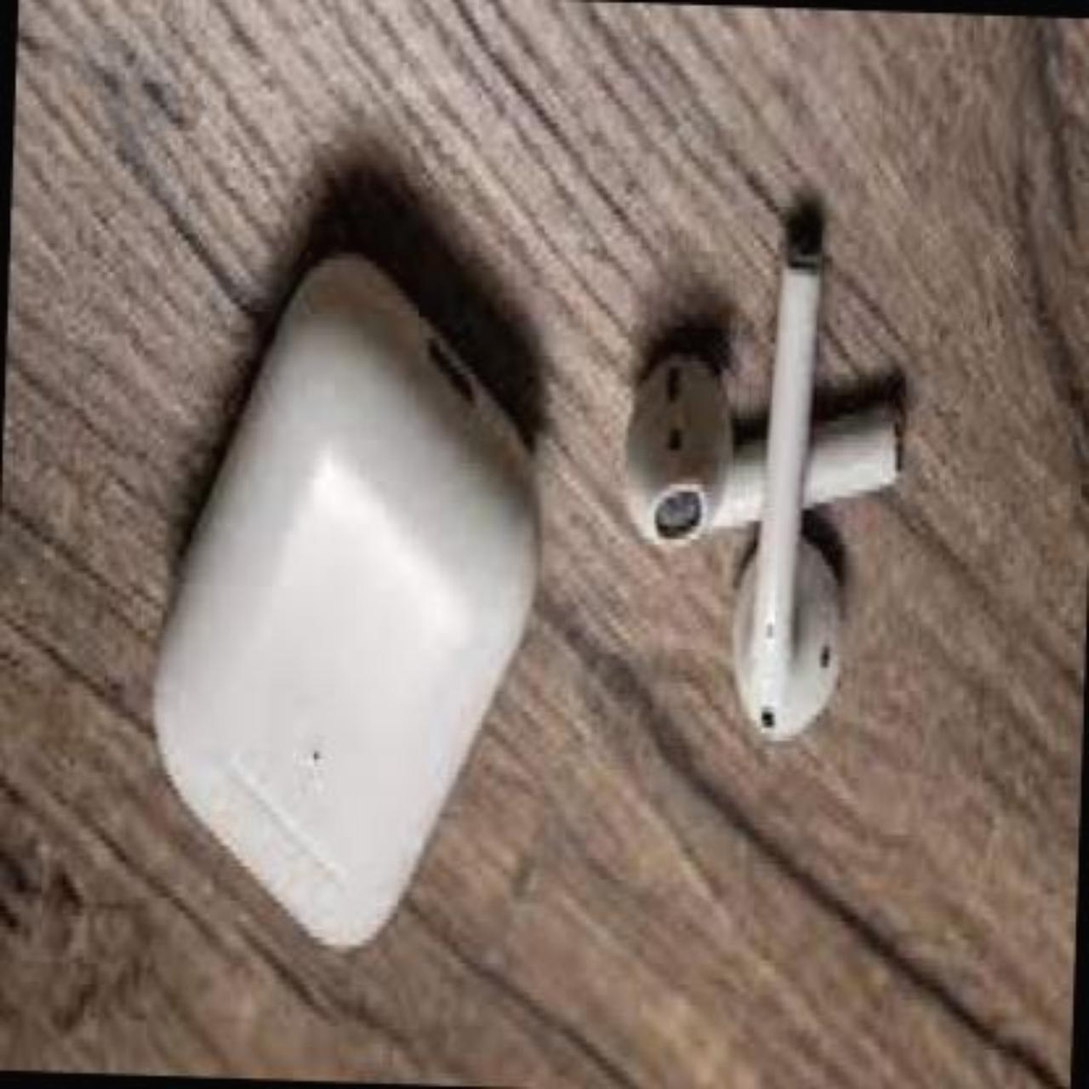Airpods_Units: (623, 329, 913, 556), (731, 244, 858, 743)
